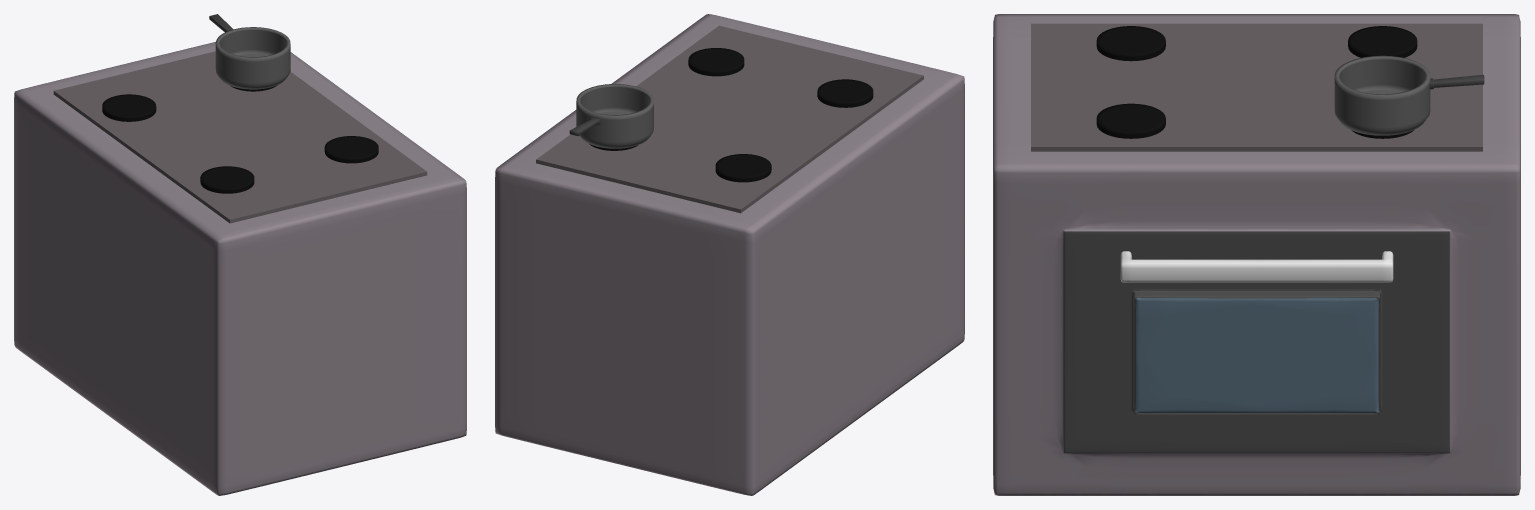
Rendered from Fogao.fbx.
The picture shows the model from 3 angles, left to right: view 1: azimuth 30°, elevation 25°; view 2: azimuth 150°, elevation 25°; view 3: azimuth 270°, elevation 25°; orthographic projection. The views are drawn at different scales.
Visible parts, largest first — view 1: Cube.049, Cube.054, Cylinder.028, Cylinder.027; view 2: Cube.049, Cube.054, Cylinder.028, Cylinder.027; view 3: Cube.049, Cube.054, Cylinder.028, Cube.050, Cylinder.027.
Part boxes in pixels (left/top/right/bottom): Cube.049: left=14, top=42, right=466, bottom=495; Cube.054: left=53, top=51, right=427, bottom=223; Cylinder.028: left=215, top=27, right=290, bottom=89; Cylinder.027: left=102, top=85, right=378, bottom=193; Cube.049: left=495, top=14, right=964, bottom=495; Cube.054: left=536, top=25, right=923, bottom=213; Cylinder.028: left=576, top=84, right=653, bottom=148; Cylinder.027: left=589, top=48, right=873, bottom=182; Cube.049: left=993, top=14, right=1520, bottom=495; Cube.054: left=1031, top=23, right=1482, bottom=151; Cylinder.028: left=1334, top=55, right=1430, bottom=135; Cube.050: left=1120, top=251, right=1393, bottom=282; Cylinder.027: left=1096, top=26, right=1417, bottom=138.
Size of the model in its own units: 2063 by 2167 by 2711.
